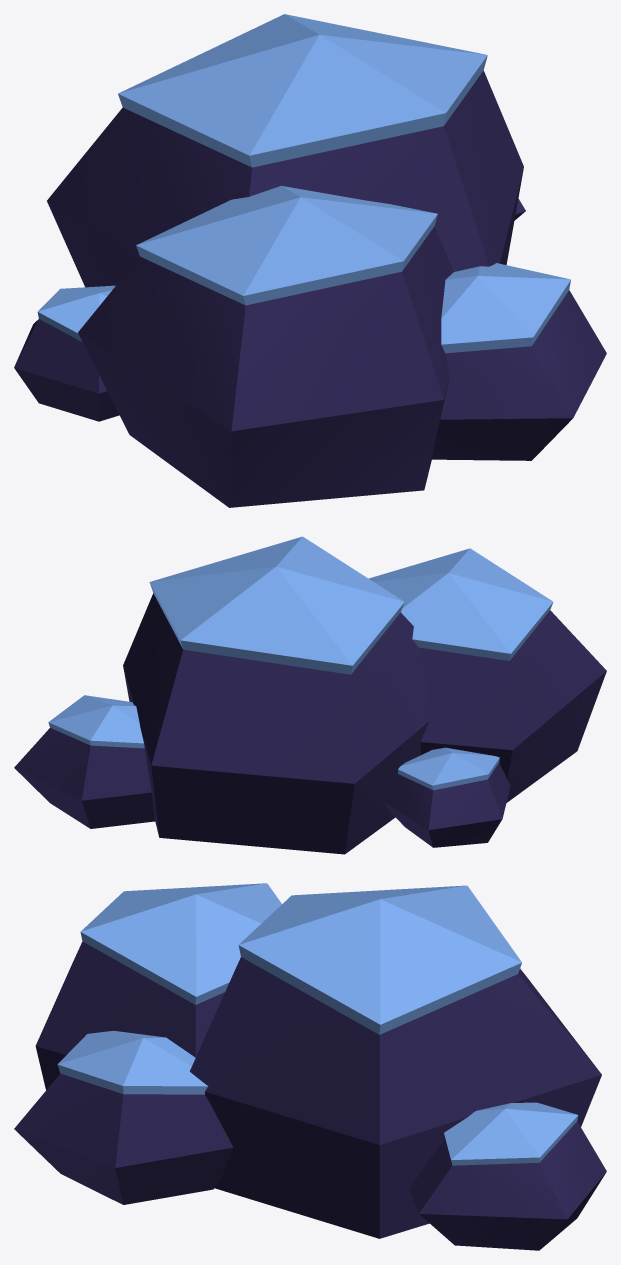
File: Bush_2.fbx
3 renders of one model, top to bottom at view 1: azimuth 30°, elevation 25°; view 2: azimuth 150°, elevation 25°; view 3: azimuth 270°, elevation 25°, orthographic. The views are drawn at different scales.
Parts seen in each view (by area): view 1: Bush_2; view 2: Bush_2; view 3: Bush_2.
Part boxes in pixels (x1,y1,x2,y2): Bush_2: (14, 14, 606, 507); Bush_2: (14, 536, 606, 854); Bush_2: (14, 883, 606, 1250).
Size of the model in its own units: 25.54 by 13.41 by 27.5.
